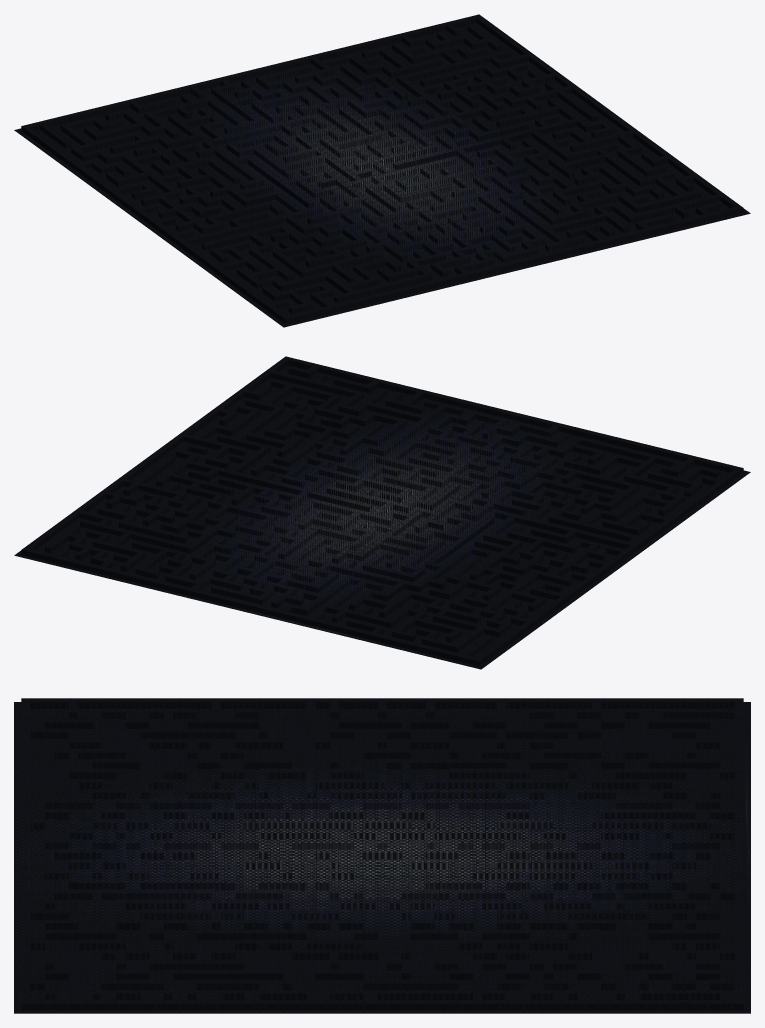
File: maze1.obj
3 views of the same model, one above another, from view 1: azimuth 30°, elevation 25°; view 2: azimuth 150°, elevation 25°; view 3: azimuth 270°, elevation 25° (orthographic). The views are drawn at different scales.
Parts seen in each view (by area): view 1: Plane; view 2: Plane; view 3: Plane.
Boxes of the visible parts, x1=… form: Plane: x1=14, y1=14, x2=750, y2=327; Plane: x1=14, y1=356, x2=750, y2=669; Plane: x1=14, y1=698, x2=750, y2=1013.
Size of the model in its own units: 4.8 by 0.048 by 4.8.
